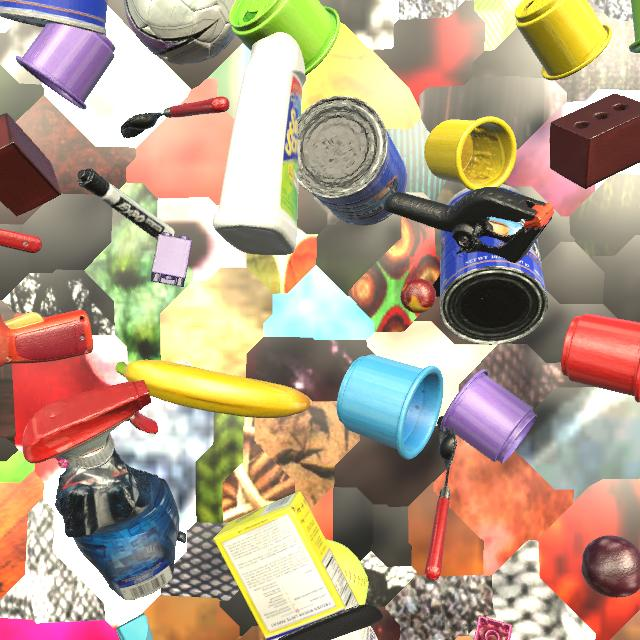ycb_002_master_chef_can: (439, 184, 548, 345), (297, 96, 408, 226), (0, 0, 107, 36)
ycb_004_sugar_box: (213, 491, 378, 640)
ycb_011_banana: (115, 360, 310, 418)
ycb_018_plum: (581, 535, 640, 598)
